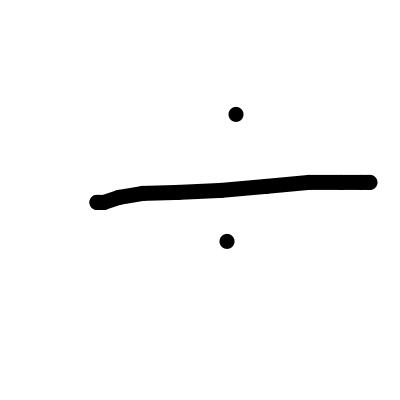div: (90, 106, 377, 249)
